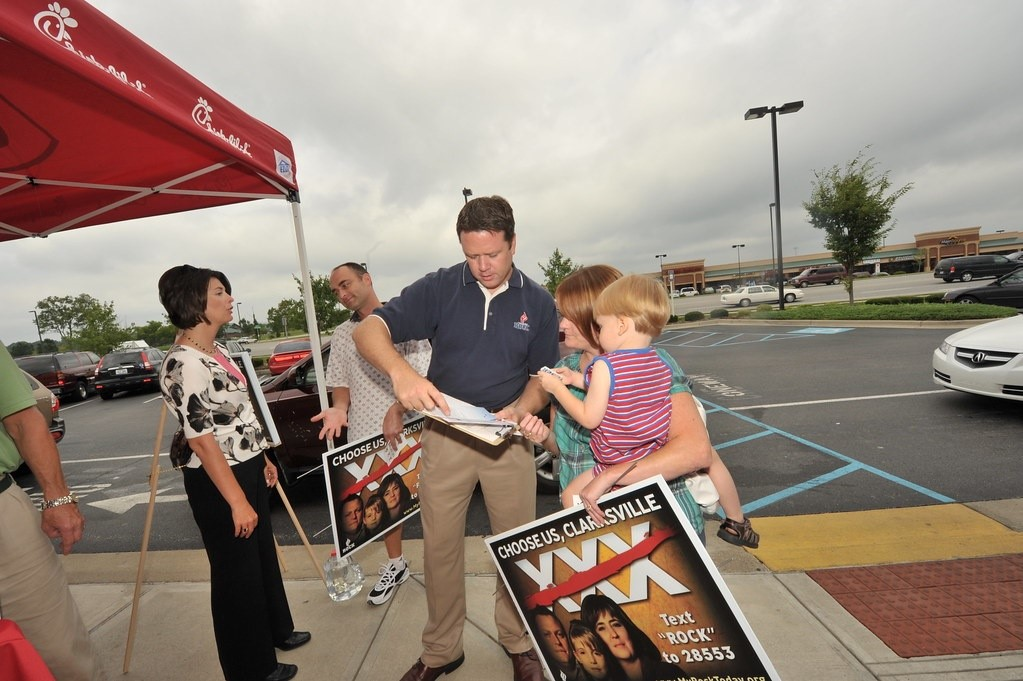face_no_mask: (453, 196, 516, 286), (596, 278, 665, 351), (162, 266, 236, 331), (554, 269, 598, 349), (326, 262, 373, 310)
